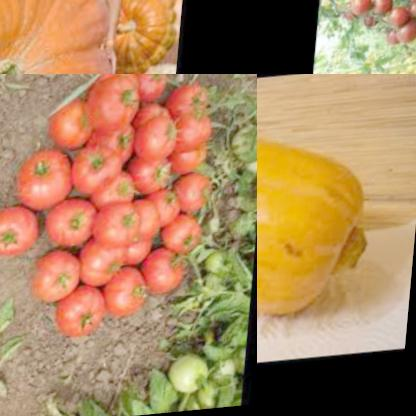pumpkin: (257, 87, 388, 351), (0, 0, 135, 74), (110, 0, 188, 74)
tomato: (16, 148, 85, 212), (333, 0, 416, 53), (89, 77, 147, 137), (36, 249, 92, 308), (60, 291, 113, 350), (74, 150, 128, 203), (0, 204, 46, 265), (49, 104, 104, 153), (147, 251, 197, 303), (52, 200, 98, 251), (111, 272, 156, 324), (171, 115, 223, 160), (78, 246, 131, 290), (101, 209, 149, 254), (139, 120, 188, 164), (168, 85, 215, 128), (175, 178, 220, 222), (96, 127, 142, 170), (97, 175, 147, 213), (168, 221, 212, 263), (135, 157, 176, 196), (152, 194, 186, 233), (135, 74, 176, 103), (176, 147, 212, 178)
